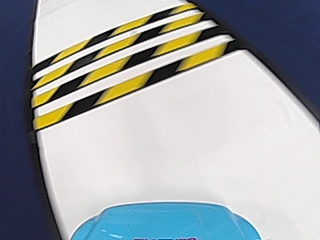bump: (43, 12, 196, 109)
